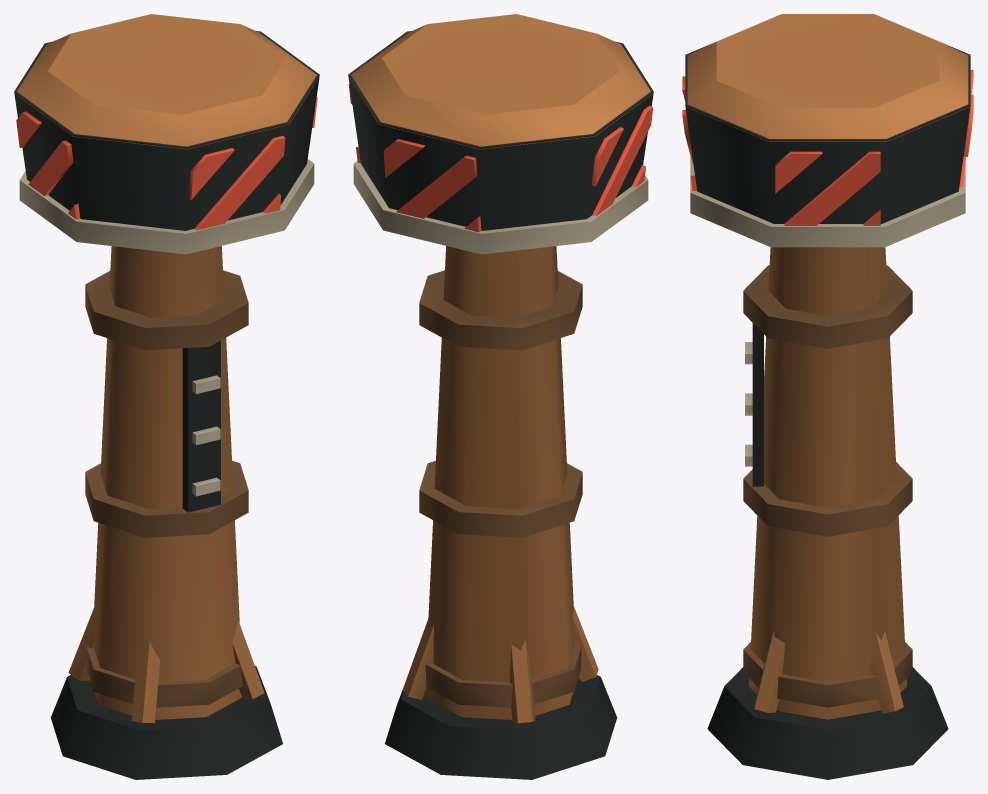
The model's file is ambush_altar.glb.
The picture shows the model from 3 angles, left to right: view 1: azimuth 30°, elevation 25°; view 2: azimuth 150°, elevation 25°; view 3: azimuth 270°, elevation 25°; orthographic projection.
Parts seen in each view (by area): view 1: AltarPost, AltarCap, AltarBand; view 2: AltarPost, AltarCap, AltarBand; view 3: AltarPost, AltarCap, AltarBand.
Boxes of the visible parts, x1=… form: AltarPost: x1=50, y1=246, x2=282, y2=779; AltarCap: x1=14, y1=14, x2=319, y2=230; AltarBand: x1=19, y1=159, x2=314, y2=254; AltarPost: x1=385, y1=246, x2=617, y2=779; AltarCap: x1=348, y1=14, x2=653, y2=232; AltarBand: x1=353, y1=161, x2=648, y2=254; AltarPost: x1=707, y1=247, x2=948, y2=779; AltarCap: x1=682, y1=14, x2=973, y2=225; AltarBand: x1=690, y1=156, x2=965, y2=247.
Size of what is drawn, in the model's own units: 1.55 by 3.91 by 1.55.
